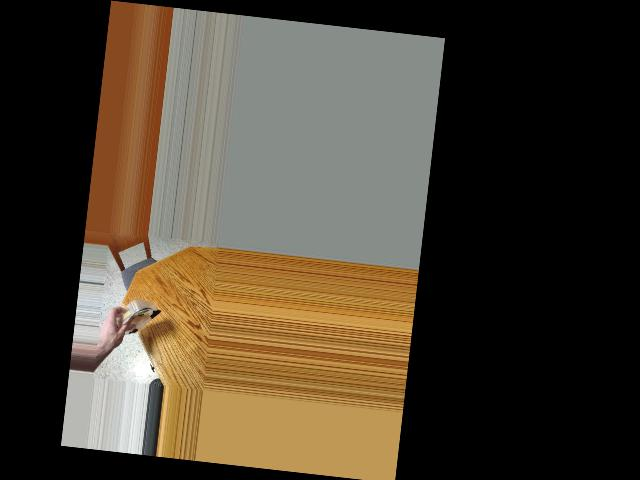cheese: (111, 288, 160, 351)
